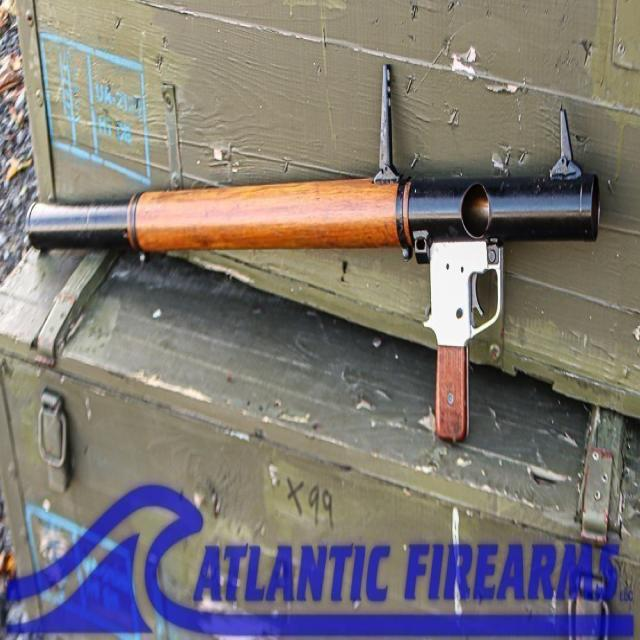bazooka: (25, 65, 618, 471)
